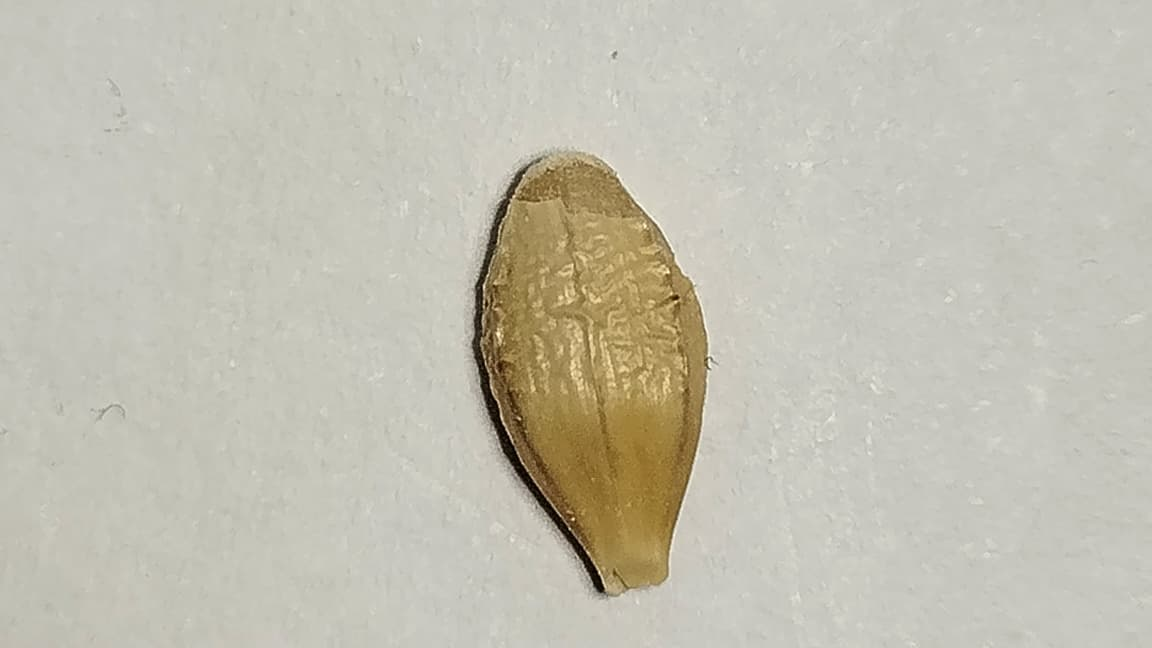healthy-70-60: (480, 153, 709, 595)
shriveledseed: (527, 227, 673, 391)
